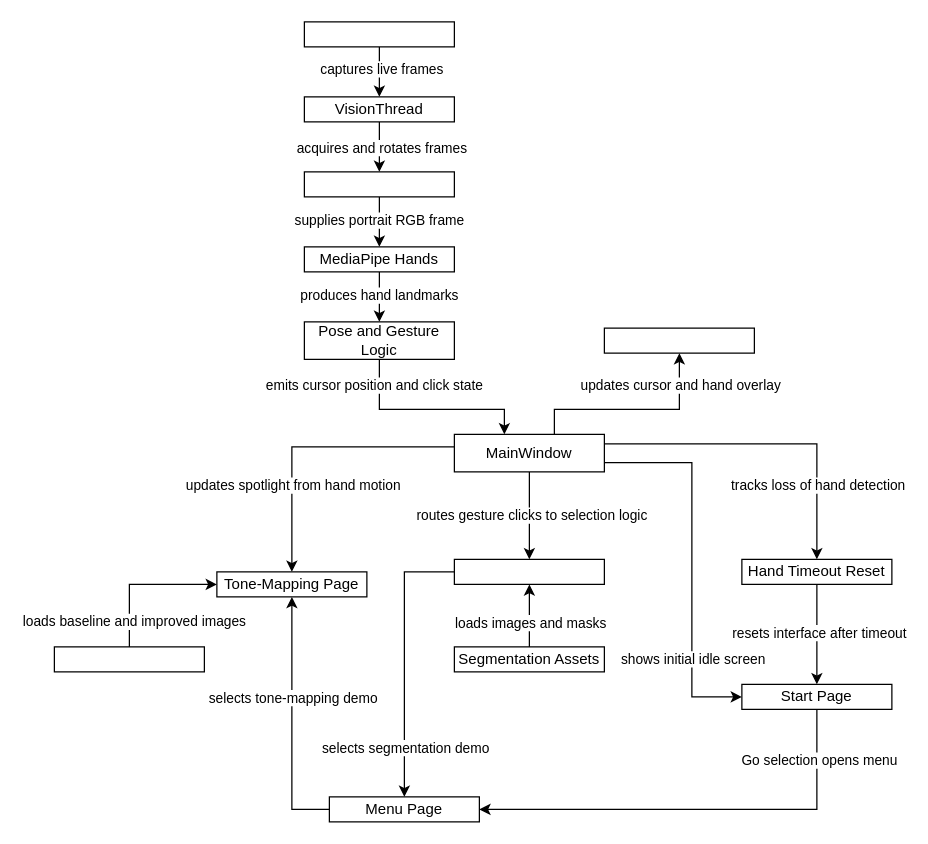
This 928x844 diagram has some shape labels left out. Here are the shapes that lost their labels. From the top down, the centre of each, then its label:
At (378,34): "ZED Camera".
At (378,184): "Frame Preprocessing".
At (678,340): "CursorOverlay".
At (528,571): "Segmentation Page".
At (128,659): "Tone-Mapping Assets".
